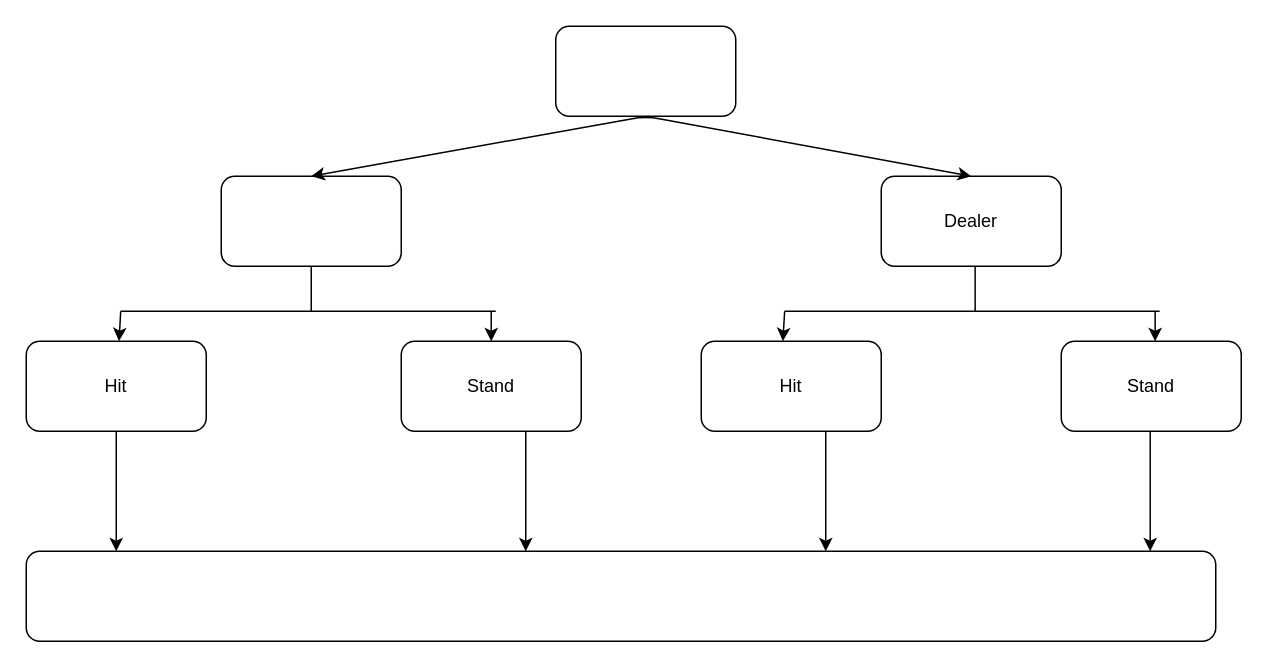
This 1268x668 diagram has some shape labels left out. Each missing label, with the centre of its shape:
"Blackjack Game" belongs at (x=645, y=70).
"Player" belongs at (x=310, y=220).
"Scores Updated" belongs at (x=620, y=595).
